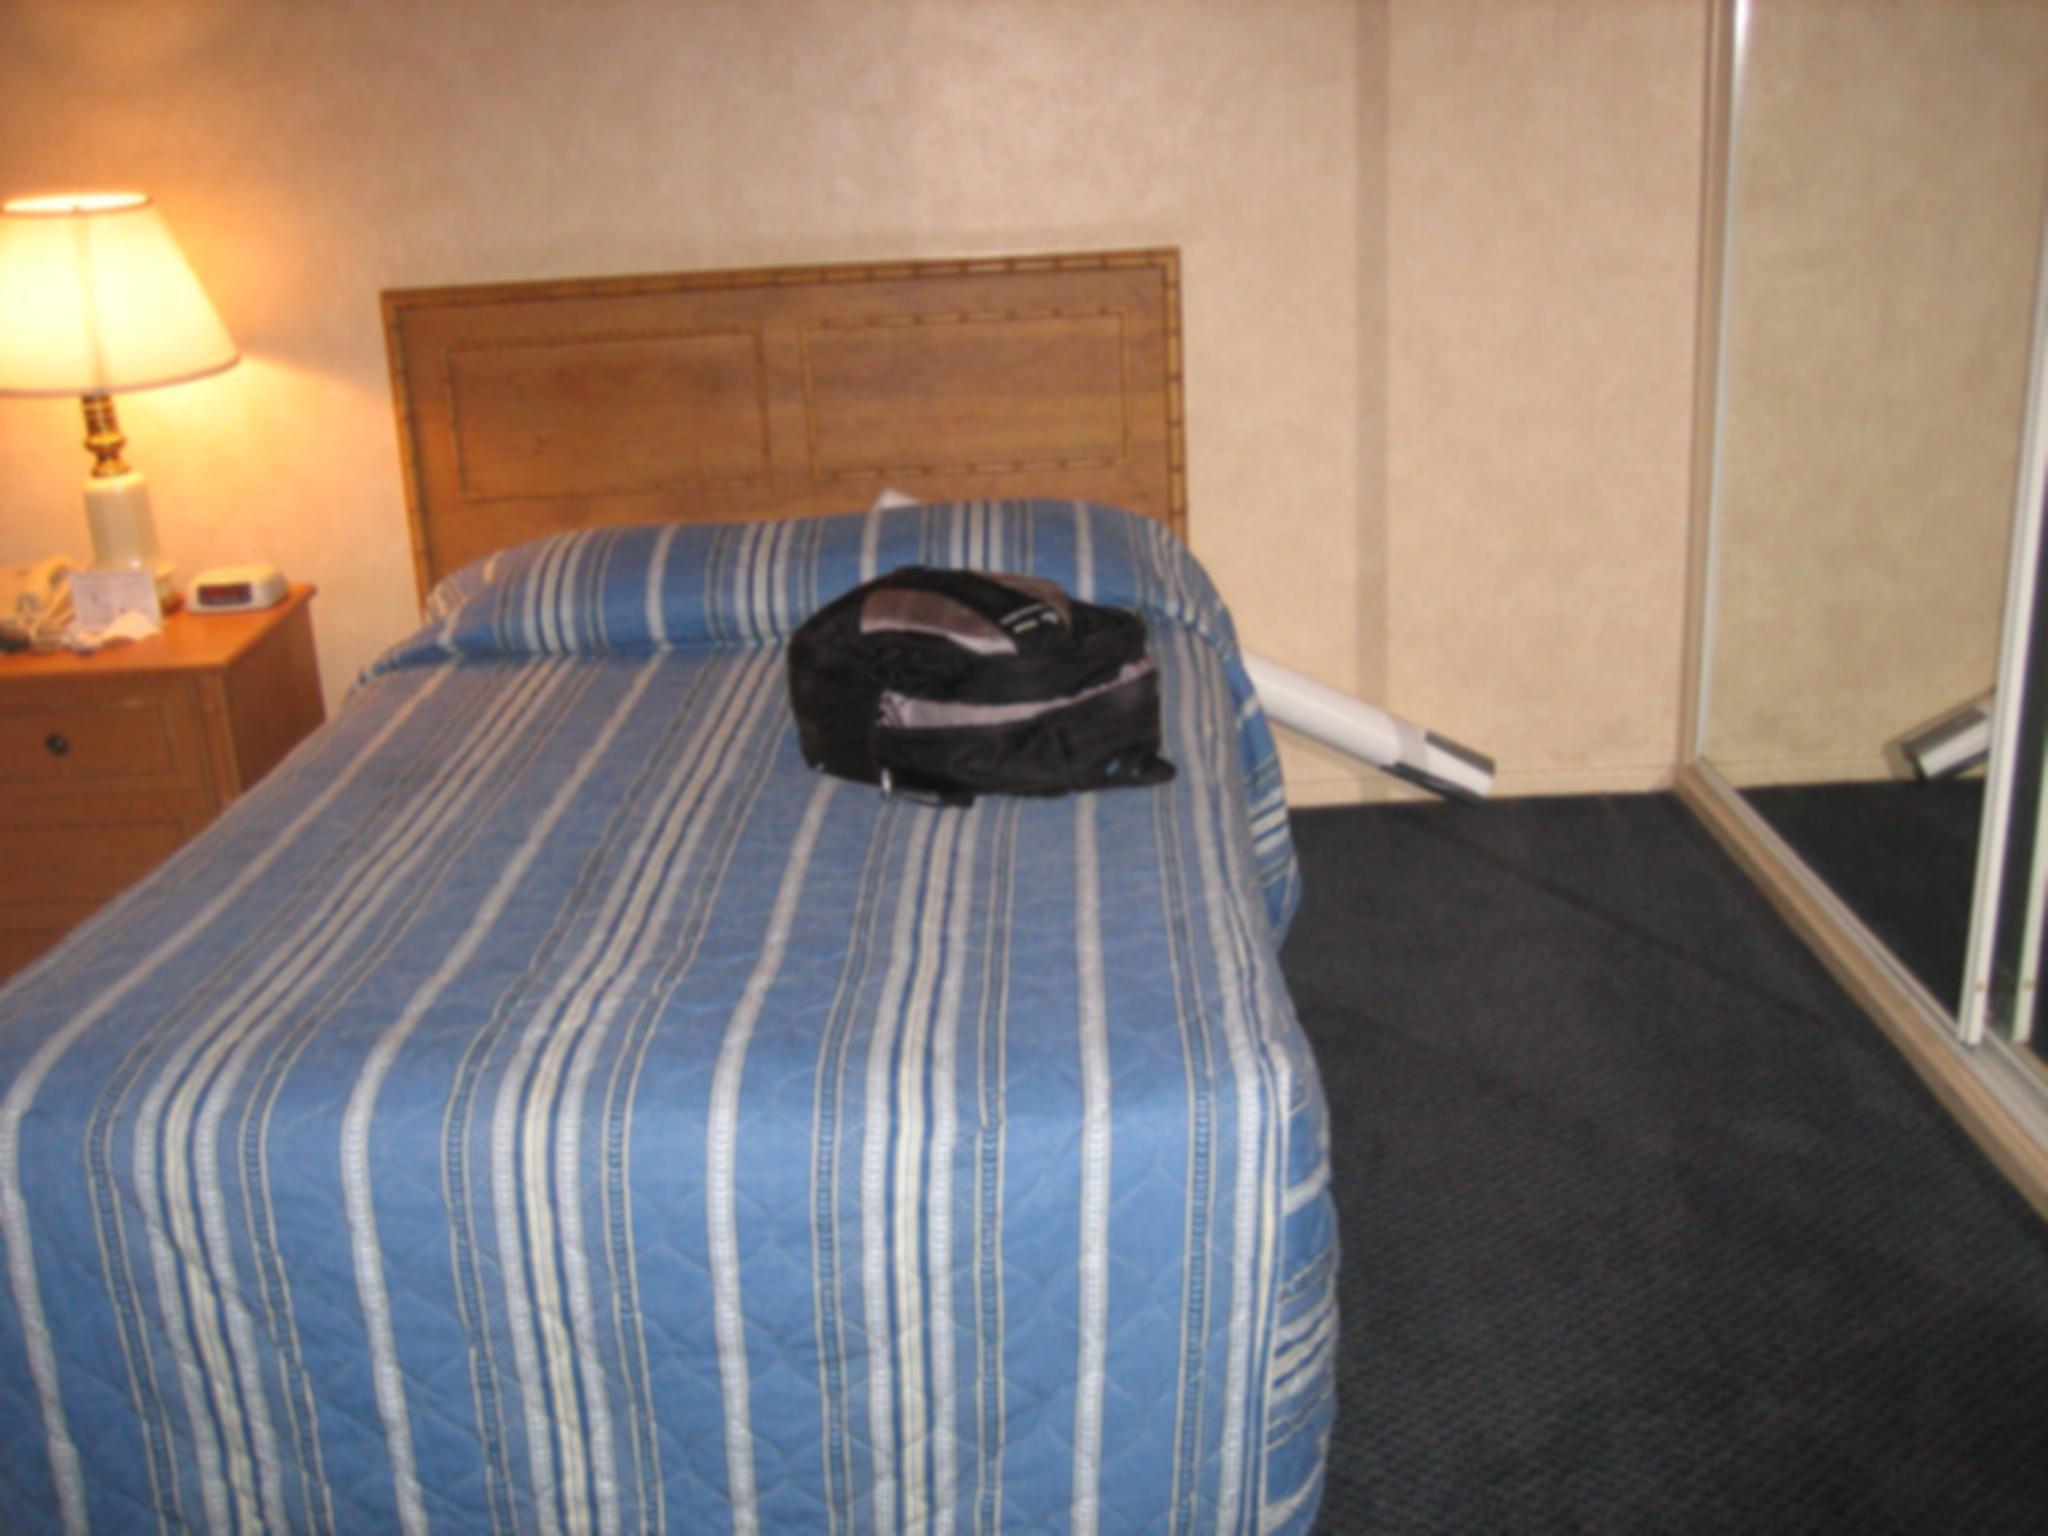Otro Obstaculo: (785, 532, 1163, 797)
